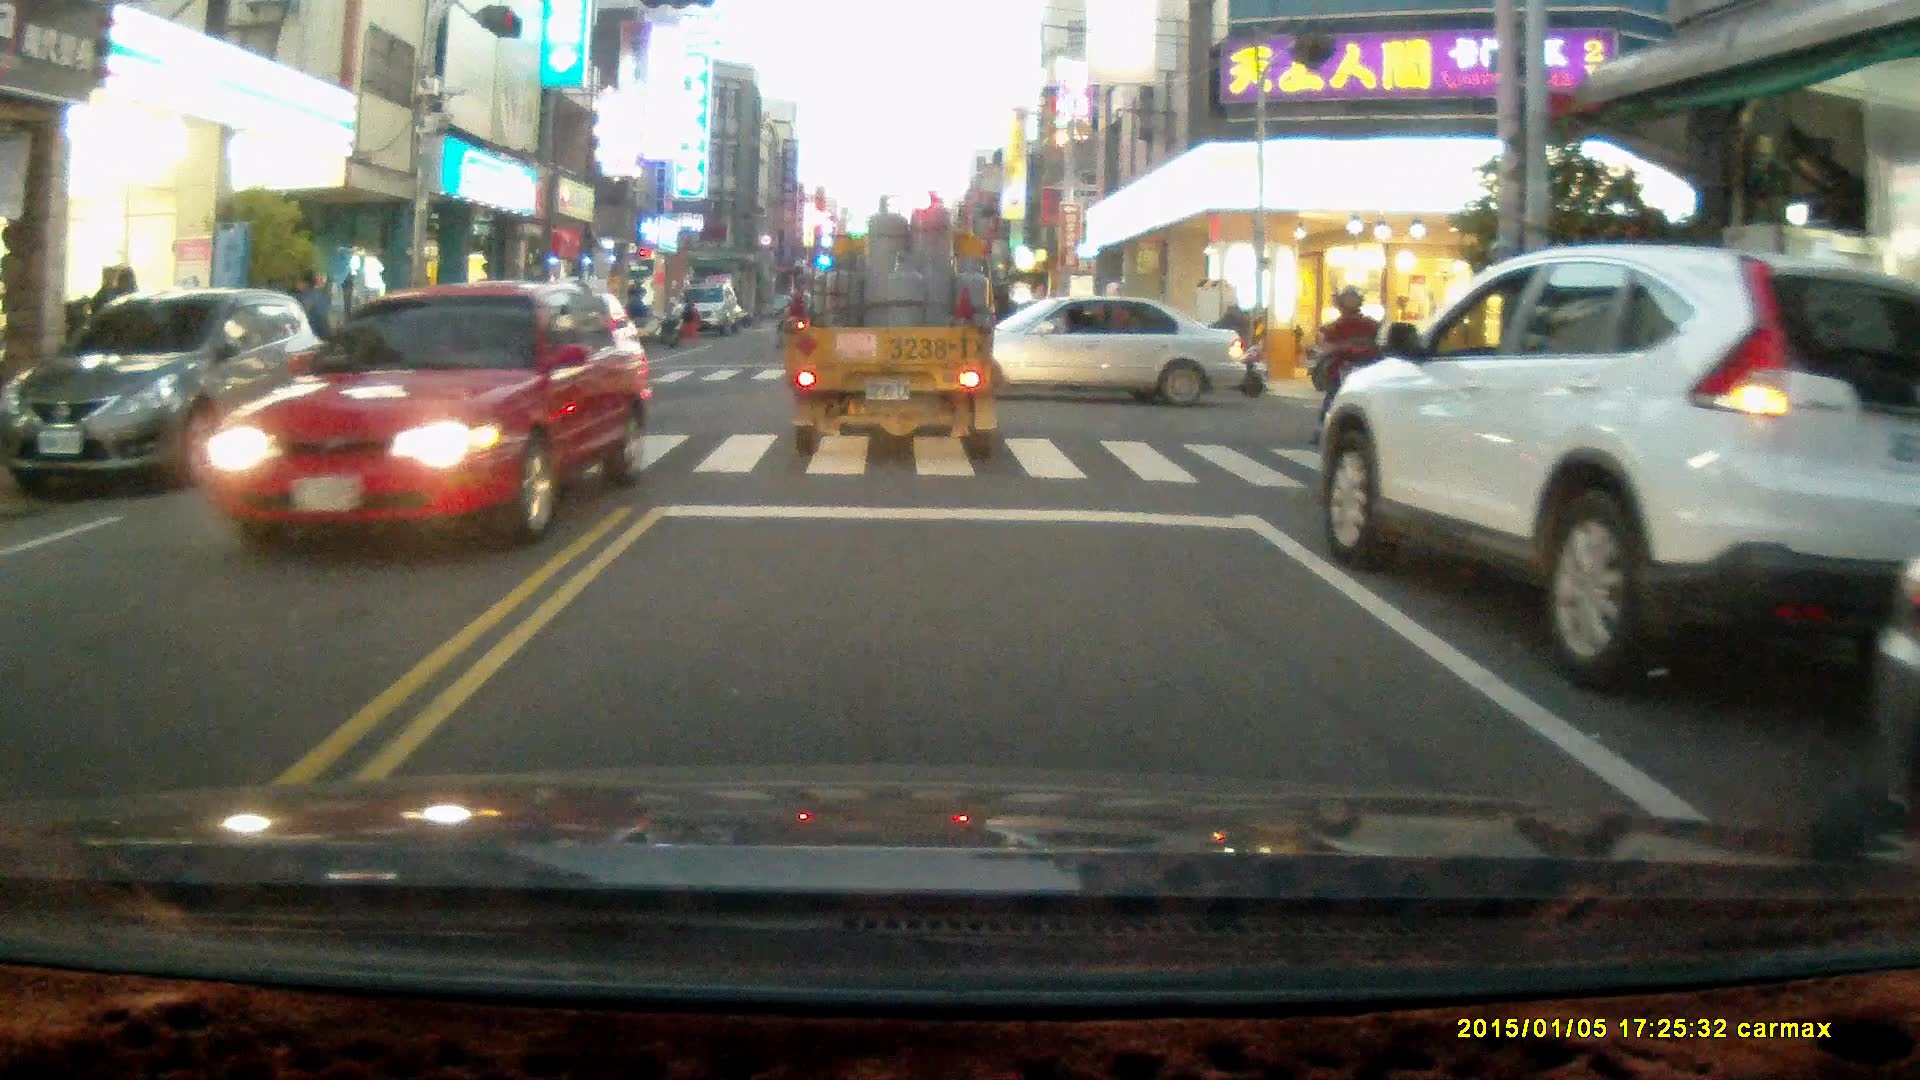rider: (1308, 279, 1398, 464), (1175, 292, 1267, 396)
vehicle: (1314, 241, 1920, 699), (191, 279, 664, 550), (8, 289, 333, 495), (786, 191, 1008, 462), (922, 294, 1247, 411), (673, 284, 741, 336)
